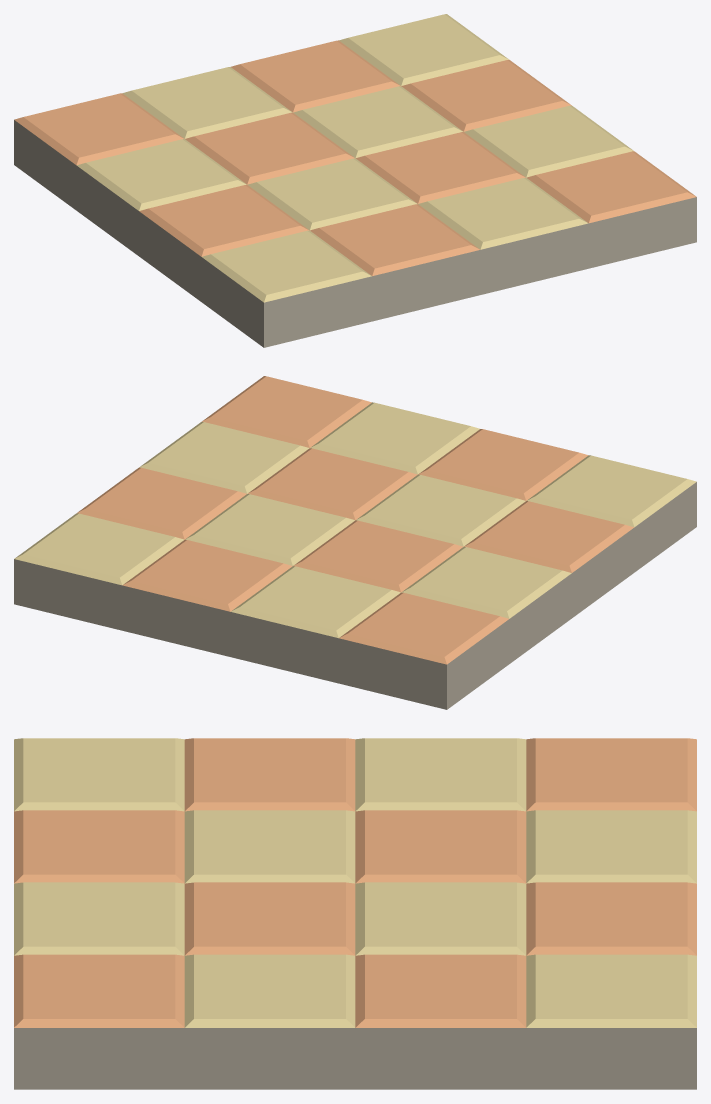
The model's file is Mesh_GroundCeramic_P2.fbx.
3 views of the same model, one above another, from view 1: azimuth 30°, elevation 25°; view 2: azimuth 150°, elevation 25°; view 3: azimuth 270°, elevation 25° (orthographic). The views are drawn at different scales.
Parts seen in each view (by area): view 1: Mesh_GroundCeramic_P2; view 2: Mesh_GroundCeramic_P2; view 3: Mesh_GroundCeramic_P2.
Boxes of the visible parts, x1,y1,x2,y2 form: Mesh_GroundCeramic_P2: [14, 14, 696, 347]; Mesh_GroundCeramic_P2: [14, 376, 696, 709]; Mesh_GroundCeramic_P2: [14, 738, 696, 1089].
Size of the model in its own units: 1 by 0.1082 by 1.
